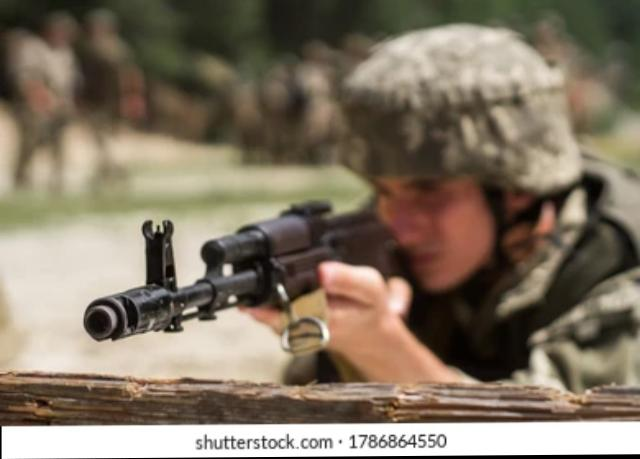other: (308, 32, 618, 406)
